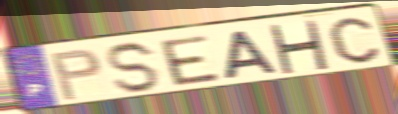A: (222, 29, 281, 81)
C: (327, 16, 383, 65)
E: (157, 33, 223, 88)
H: (266, 19, 331, 75)
P: (48, 47, 104, 103)
S: (105, 40, 163, 95)
